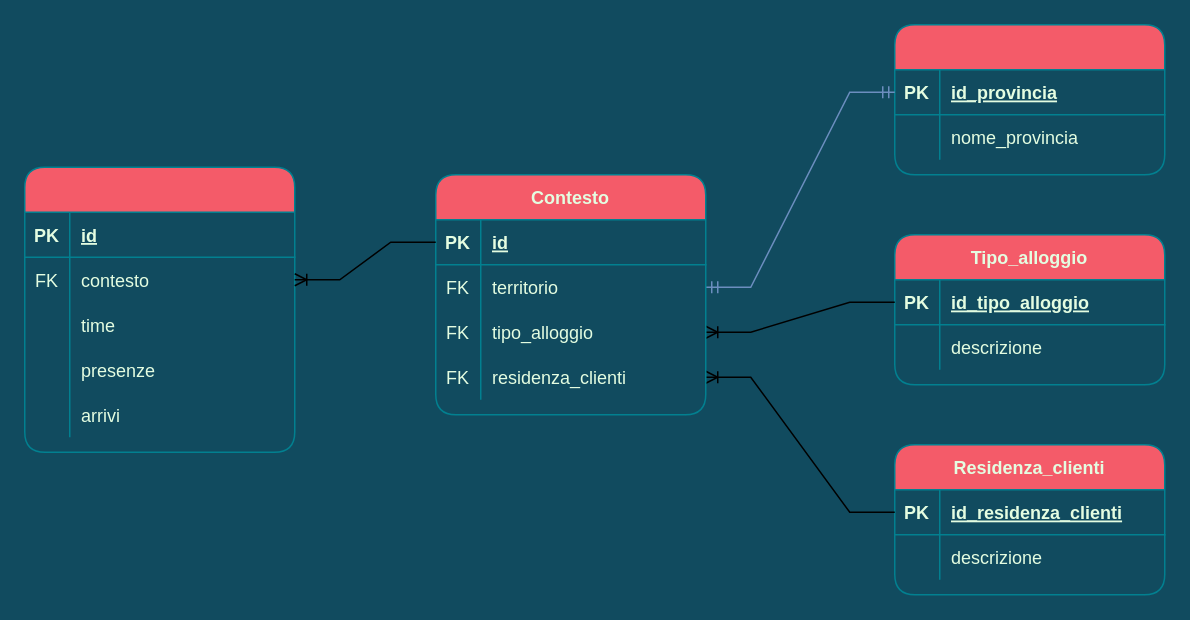
Image size: 1190x620. Some labels were removed from this diagram. The box of each missing label's shape, as (x1, y1, x2, y2) in pixels:
Province: (893, 23, 1165, 175)
Storico: (23, 166, 295, 452)
